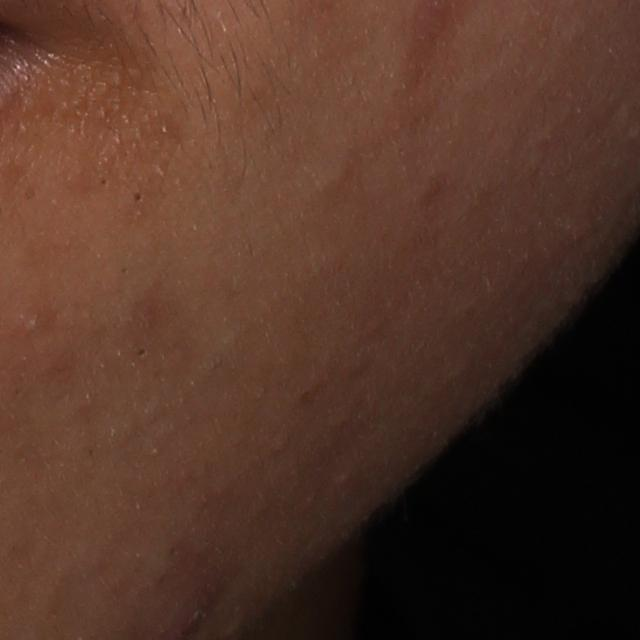comedo: (321, 160, 355, 190), (127, 188, 149, 205)
